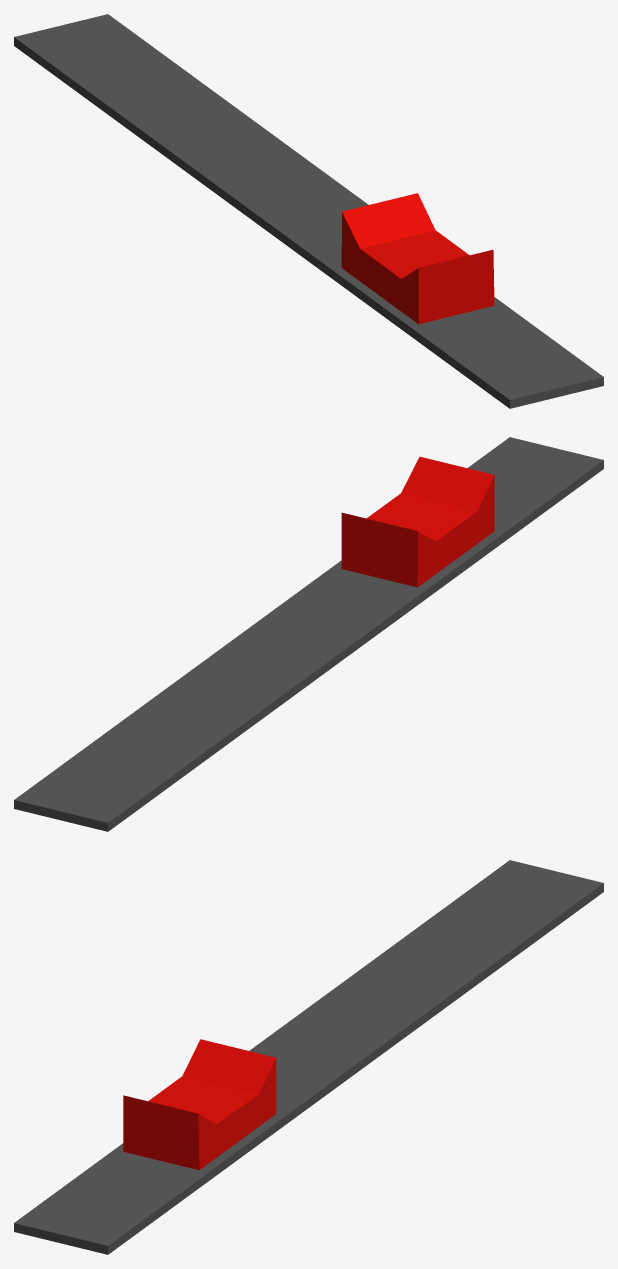
The model's file is gage-test.fbx.
3 views of the same model, one above another, from view 1: azimuth 30°, elevation 25°; view 2: azimuth 150°, elevation 25°; view 3: azimuth 330°, elevation 25° (orthographic).
Visible parts, largest first — view 1: Cube, Cube.001; view 2: Cube, Cube.001; view 3: Cube, Cube.001.
Part boxes in pixels (x1,y1,x2,y2): Cube: (14,14,603,408); Cube.001: (341,193,494,324); Cube: (14,437,603,831); Cube.001: (341,456,494,587); Cube: (14,860,603,1254); Cube.001: (123,1039,276,1170).
Bounding box in the file's own units: 103 × 68.14 × 937.
